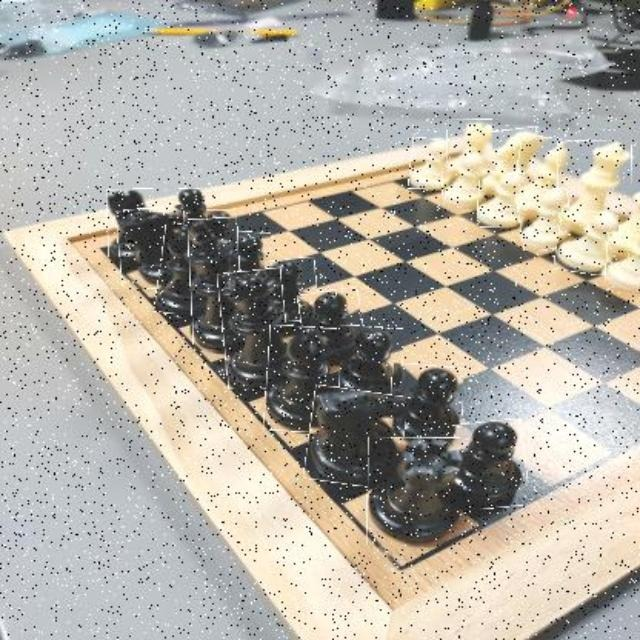black-bishop: (264, 326, 339, 433), (157, 224, 201, 314)
black-king: (189, 217, 241, 352)
black-knight: (307, 388, 405, 488), (119, 206, 189, 289)
black-pawn: (456, 420, 528, 509), (387, 365, 462, 445), (338, 326, 404, 396), (300, 289, 364, 361), (266, 259, 318, 323), (232, 232, 272, 278), (178, 188, 207, 222), (207, 209, 237, 238)
black-queen: (221, 270, 288, 390)
black-rook: (367, 437, 465, 546), (107, 189, 156, 259)
white-bishop: (514, 137, 575, 217)
white-knight: (480, 127, 541, 196)
white-pawn: (558, 209, 618, 275), (517, 189, 572, 250), (478, 172, 525, 228), (443, 153, 487, 206), (410, 138, 454, 190), (605, 233, 638, 295)
white-queen: (558, 142, 633, 236)
white-rook: (446, 120, 493, 181)
